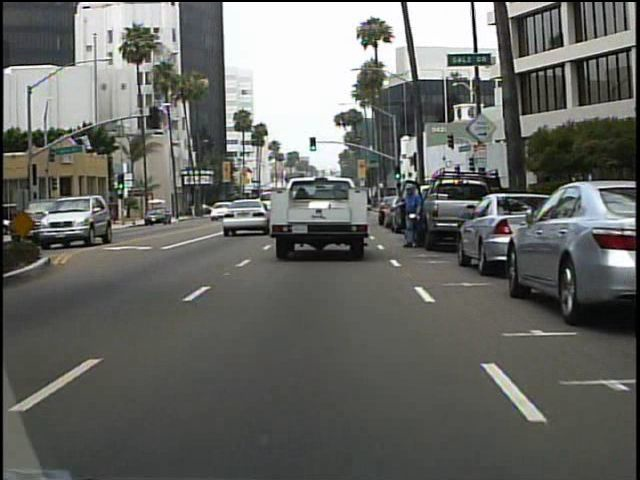person: (398, 181, 424, 247)
